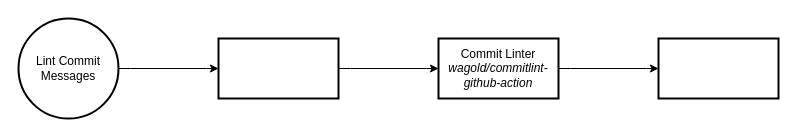
Some shapes in this 796 by 136 pixel diagram are drawn without their labels. Each missing label, with the box of its shape:
Checkout actions/checkout: (217, 37, 339, 99)
Process Lint Resources actions/github-script: (657, 37, 779, 99)
